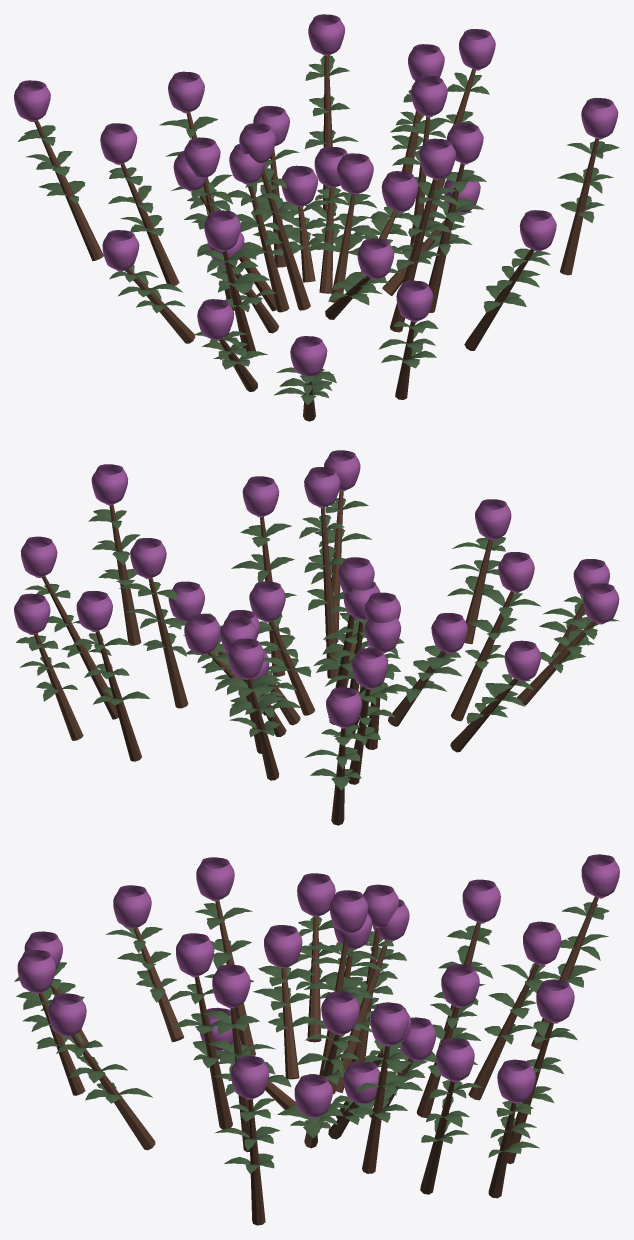
Rendered from detail_heather.glb.
3 renders of one model, top to bottom at view 1: azimuth 30°, elevation 25°; view 2: azimuth 150°, elevation 25°; view 3: azimuth 270°, elevation 25°, orthographic. The views are drawn at different scales.
Visible parts, largest first — view 1: IndividualHeatherLeaves, Cone.026, Cone.009, HeatherBell11, HeatherBell3, HeatherBell9, HeatherBell14, HeatherBell0, HeatherBell15, HeatherBell21, HeatherBell4, HeatherBell13 (+30 smaller); view 2: IndividualHeatherLeaves, Cone.020, Cone.014, HeatherBell24, HeatherBell9, HeatherBell14, HeatherBell19, HeatherBell4, HeatherBell17, HeatherBell5, HeatherBell6, HeatherBell20 (+31 smaller); view 3: IndividualHeatherLeaves, HeatherBell7, HeatherBell6, HeatherBell20, HeatherBell3, HeatherBell5, HeatherBell9, HeatherBell18, HeatherBell4, HeatherBell12, HeatherBell17, HeatherBell8 (+34 smaller).
Boxes of the visible parts, box(x1,y1,x2,y2) form: IndividualHeatherLeaves: box(18, 55, 619, 404); Cone.026: box(261, 169, 310, 310); Cone.009: box(34, 120, 103, 261); HeatherBell11: box(396, 280, 433, 322); HeatherBell3: box(519, 210, 556, 251); HeatherBell9: box(14, 80, 50, 121); HeatherBell14: box(419, 138, 455, 180); HeatherBell0: box(102, 230, 139, 271); HeatherBell15: box(337, 153, 373, 194); HeatherBell21: box(357, 238, 394, 279); HeatherBell4: box(100, 123, 137, 164); HeatherBell13: box(308, 14, 345, 55); IndividualHeatherLeaves: box(16, 498, 619, 790); Cone.020: box(148, 578, 188, 708); Cone.014: box(321, 508, 338, 678); HeatherBell24: box(228, 638, 264, 679); HeatherBell9: box(326, 687, 362, 728); HeatherBell14: box(304, 467, 340, 508); HeatherBell19: box(91, 464, 128, 505); HeatherBell4: box(351, 648, 388, 689); HeatherBell17: box(242, 476, 279, 517); HeatherBell5: box(20, 536, 57, 577); HeatherBell6: box(582, 583, 619, 624); HeatherBell20: box(130, 538, 166, 579); IndividualHeatherLeaves: box(14, 902, 609, 1173); HeatherBell7: box(196, 857, 234, 901); HeatherBell6: box(113, 885, 151, 929); HeatherBell20: box(370, 1002, 408, 1046); HeatherBell3: box(48, 993, 86, 1037); HeatherBell5: box(436, 1038, 474, 1082); HeatherBell9: box(581, 854, 619, 898); HeatherBell18: box(294, 1074, 332, 1118); HeatherBell4: box(462, 879, 500, 923); HeatherBell12: box(441, 964, 479, 1008); HeatherBell17: box(212, 964, 250, 1008); HeatherBell8: box(497, 1059, 535, 1103).
Bounding box in the file's own units: 1.53 × 0.5886 × 1.57.
